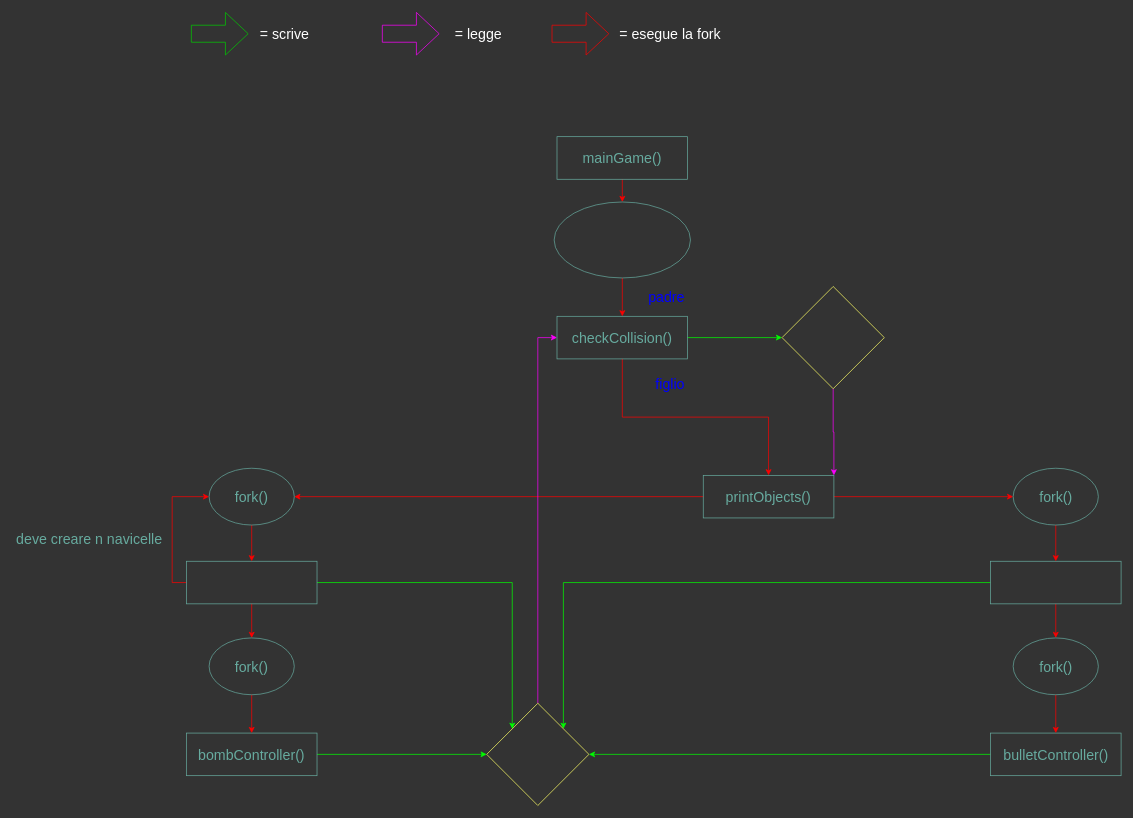
Image size: 1133x818. Some labels were removed from this diagram. The shapes that lost their labels are listed below. From the top down, each one's centre as x and y in pixels, then its label:
At (621,239): "creazione pipe fork()".
At (832,337): "fileDesPrint[]".
At (251,582): "enemyShip()".
At (1055,582): "allyShip()".
At (537,754): "fileDes[]".
